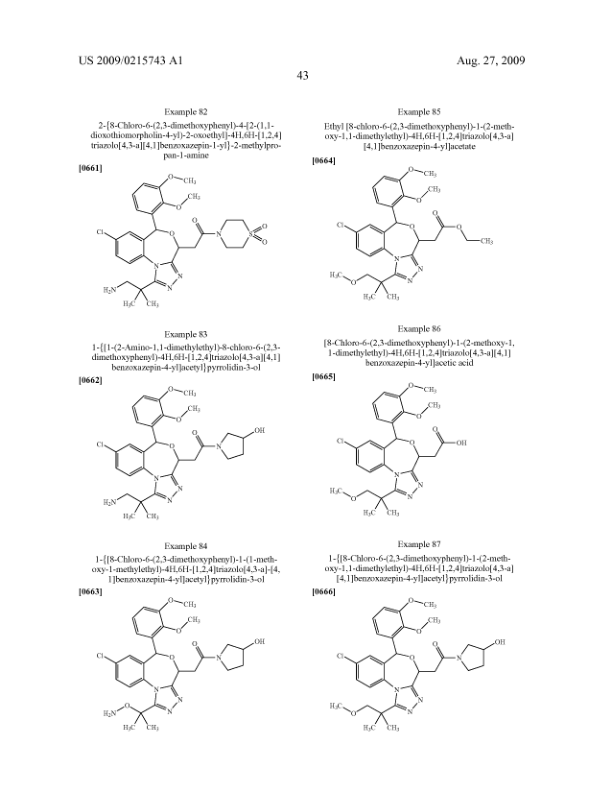compound-structure: (75, 157, 279, 317), (316, 584, 508, 744), (83, 373, 270, 535), (313, 153, 507, 309), (81, 584, 266, 747), (304, 365, 469, 518)
